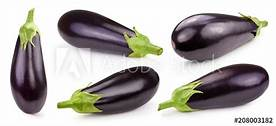fruit_eggplant: (156, 64, 272, 117), (56, 6, 165, 61), (168, 9, 273, 63), (54, 65, 160, 117), (7, 6, 51, 117)
